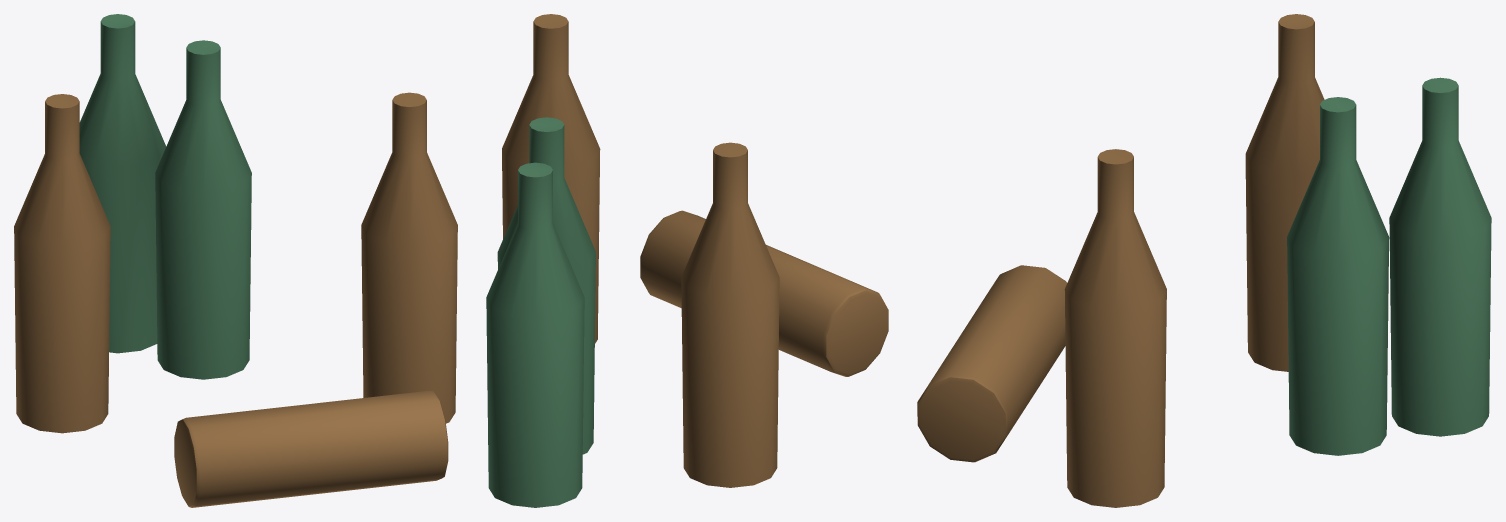
File: bottles.glb
The picture shows the model from 3 angles, left to right: view 1: azimuth 30°, elevation 25°; view 2: azimuth 150°, elevation 25°; view 3: azimuth 270°, elevation 25°; orthographic projection. The views are drawn at different scales.
Visible parts, largest first — view 1: boat_bottle2, boat_bottle; view 2: boat_bottle2, boat_bottle; view 3: boat_bottle2, boat_bottle.
Boxes of the visible parts, bbox=[...] form: boat_bottle2: bbox=[14, 92, 457, 507]; boat_bottle: bbox=[79, 14, 251, 379]; boat_bottle2: bbox=[502, 14, 888, 487]; boat_bottle: bbox=[486, 117, 595, 507]; boat_bottle2: bbox=[917, 14, 1324, 507]; boat_bottle: bbox=[1287, 77, 1491, 455].
Size of the model in its own units: 0.3469 by 0.3 by 0.4721.
